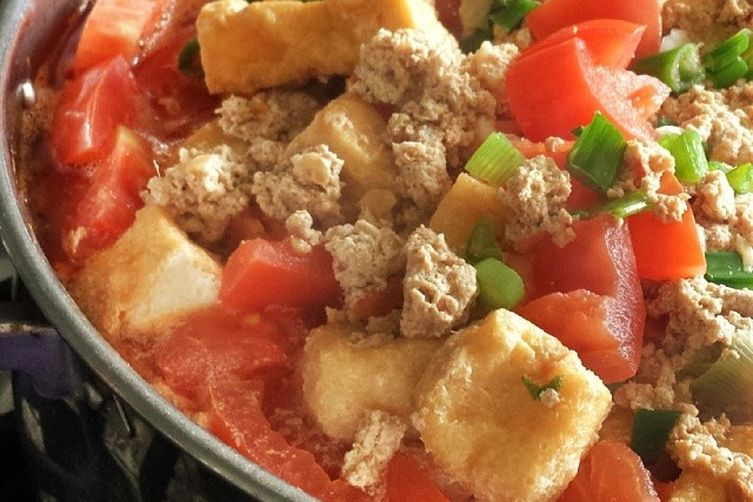tofu: (399, 325, 613, 502), (192, 1, 433, 70), (89, 223, 227, 330)
tomato: (508, 21, 653, 137), (531, 207, 643, 355), (56, 64, 151, 219), (220, 239, 335, 307)
